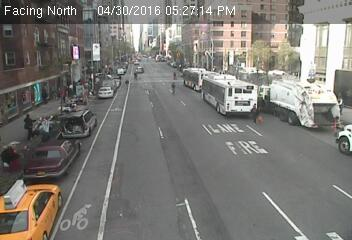neg: (287, 96, 304, 118), (258, 73, 274, 94), (73, 118, 88, 137), (308, 66, 322, 85), (188, 68, 200, 85), (144, 85, 156, 102), (76, 83, 87, 98), (100, 66, 111, 80), (155, 51, 165, 65), (236, 66, 245, 78), (147, 70, 156, 81), (126, 51, 133, 61)
pos: (17, 110, 38, 139), (245, 100, 263, 124), (168, 79, 180, 96), (130, 68, 140, 83), (121, 78, 131, 92), (170, 67, 180, 80)
